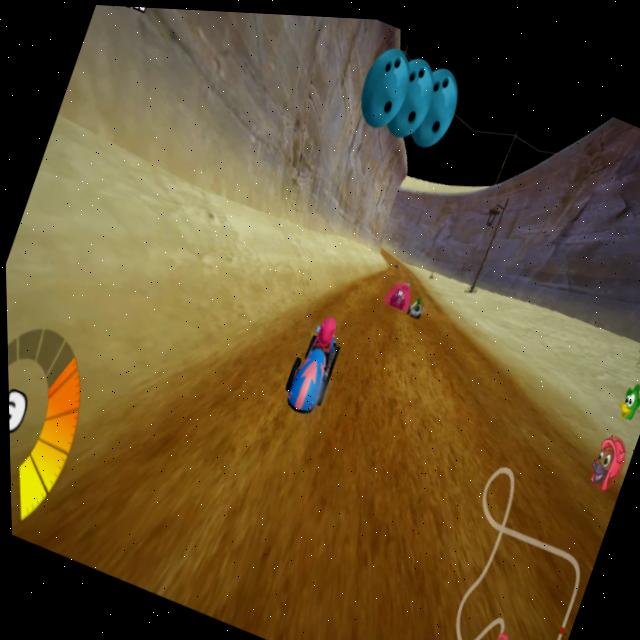enemy_kart: (378, 275, 429, 320)
off_track: (399, 225, 638, 352)
player_kart: (276, 304, 353, 419)
